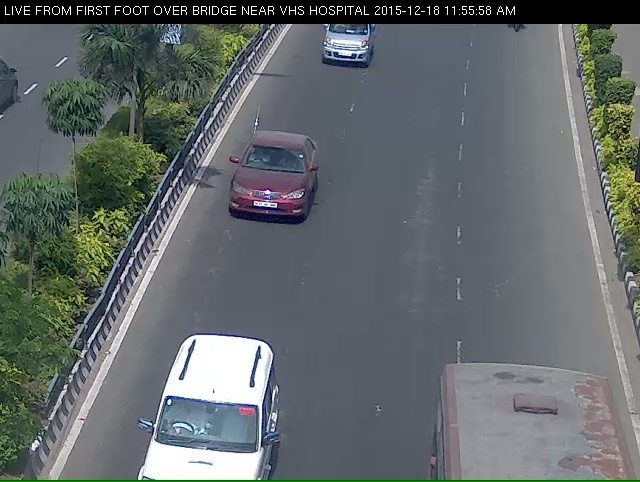Car: (122, 354, 275, 477), (212, 150, 318, 243), (308, 20, 376, 79)
